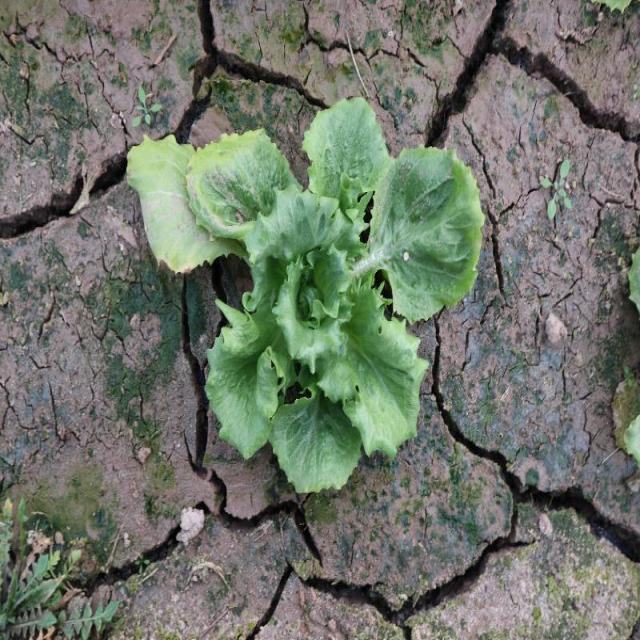crop: (127, 94, 486, 497)
